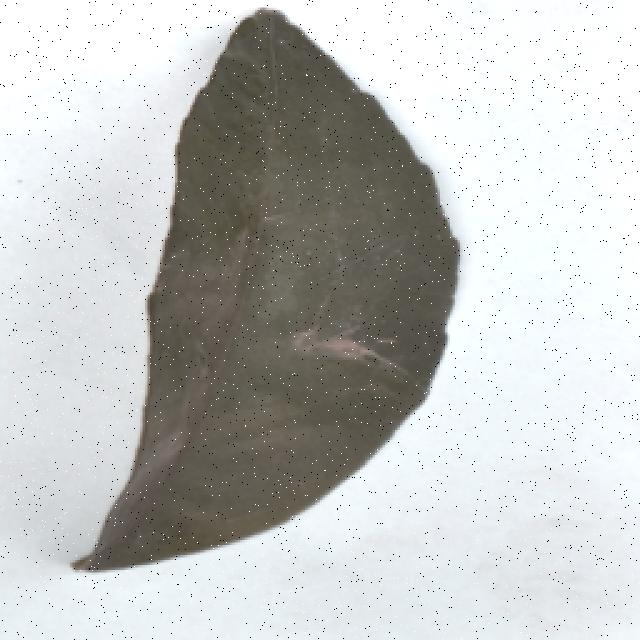healthy: (62, 6, 461, 586)
